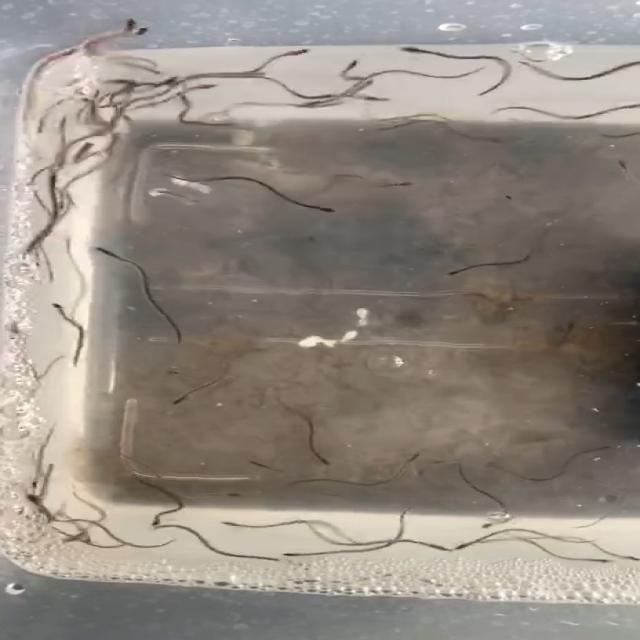inactive_glass_eel: (27, 109, 56, 139), (343, 85, 394, 102), (123, 21, 153, 49), (44, 46, 86, 66), (149, 68, 186, 90), (175, 80, 224, 96), (18, 245, 46, 273), (65, 138, 95, 162), (268, 48, 312, 64), (20, 492, 52, 514), (108, 13, 136, 38), (166, 388, 201, 408), (390, 40, 432, 56), (344, 54, 372, 76), (299, 202, 336, 218), (478, 514, 510, 532), (90, 245, 124, 261), (440, 263, 480, 276), (418, 540, 458, 553), (399, 449, 426, 468), (483, 132, 515, 148), (276, 546, 319, 557), (601, 548, 640, 560), (220, 490, 261, 501), (577, 555, 622, 565), (308, 452, 334, 468), (56, 531, 90, 543), (147, 514, 174, 529), (212, 520, 245, 532), (455, 540, 485, 552), (47, 301, 68, 318), (248, 460, 278, 471), (587, 442, 614, 453), (385, 179, 417, 188)
